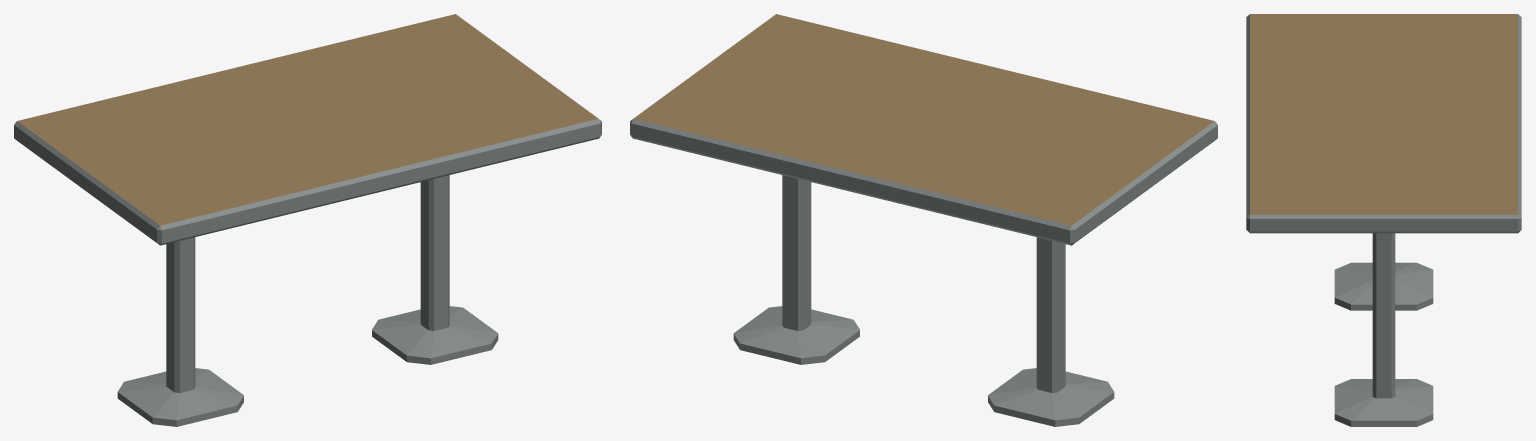
Rendered from SM_Props_Interior_Shop_Restaurant_Table_07.fbx.
The picture shows the model from 3 angles, left to right: view 1: azimuth 30°, elevation 25°; view 2: azimuth 150°, elevation 25°; view 3: azimuth 270°, elevation 25°; orthographic projection. The views are drawn at different scales.
Parts seen in each view (by area): view 1: SM_Props_Interior_Shop_Restaurant_Table_07; view 2: SM_Props_Interior_Shop_Restaurant_Table_07; view 3: SM_Props_Interior_Shop_Restaurant_Table_07.
Part boxes in pixels (x1=…): SM_Props_Interior_Shop_Restaurant_Table_07: x1=14, y1=14, x2=601, y2=426; SM_Props_Interior_Shop_Restaurant_Table_07: x1=630, y1=14, x2=1217, y2=426; SM_Props_Interior_Shop_Restaurant_Table_07: x1=1246, y1=14, x2=1521, y2=426.
Bounding box in the file's own units: 140 × 75 × 80.
